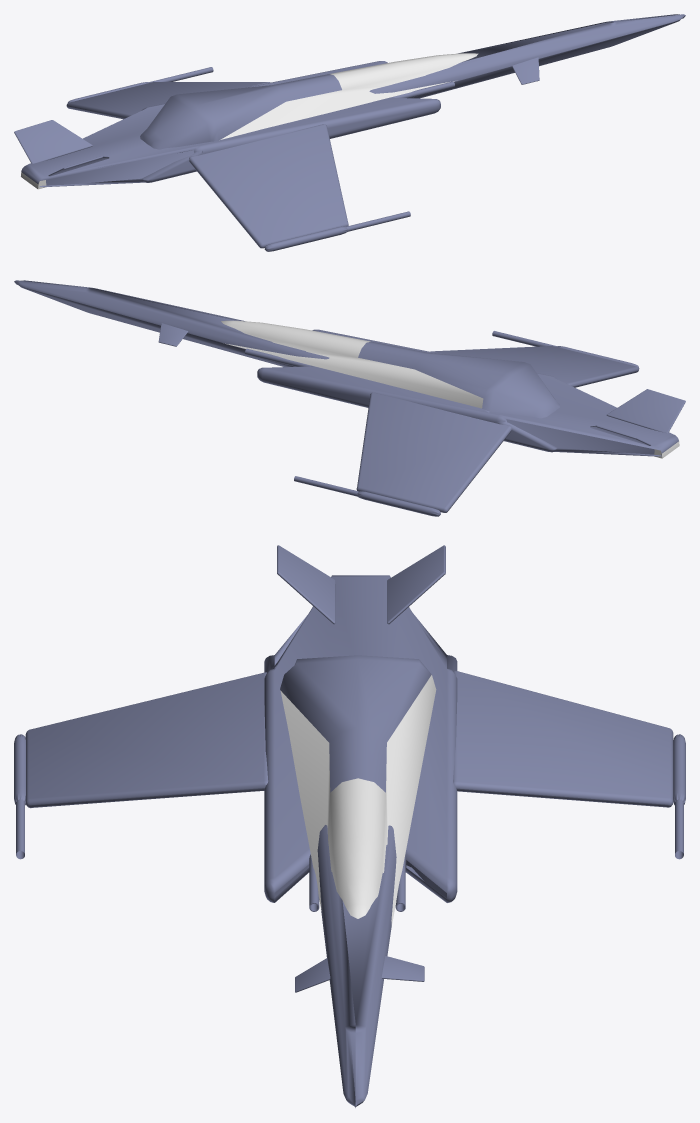
Rendered from Fleet_SF-1A.FBX.
3 views of the same model, one above another, from view 1: azimuth 30°, elevation 25°; view 2: azimuth 150°, elevation 25°; view 3: azimuth 270°, elevation 25° (orthographic). The views are drawn at different scales.
Visible parts, largest first — view 1: ChamferBox03, ChamferBox01, Capsule01, ChamferBox02, Cockpit cover, ChamferBox04, ChamferBox05, Box01, Cylinder01, ChamferBox08, Cylinder02; view 2: ChamferBox04, ChamferBox01, ChamferBox02, Capsule01, Cockpit cover, ChamferBox03, ChamferBox06, Box01, Cylinder04, ChamferBox09, Cylinder03, Tube01; view 3: ChamferBox01, ChamferBox03, ChamferBox04, Cockpit cover, Capsule01, ChamferBox02, ChamferBox06, ChamferBox05, Cylinder04, ChamferBox09.
Boxes of the visible parts, <box> form: ChamferBox03: <box>189,124,348,248</box>; ChamferBox01: <box>21,61,440,187</box>; Capsule01: <box>140,74,341,149</box>; ChamferBox02: <box>369,14,685,98</box>; Cockpit cover: <box>220,53,478,139</box>; ChamferBox04: <box>66,82,270,119</box>; ChamferBox05: <box>14,120,92,163</box>; Box01: <box>46,150,193,185</box>; Cylinder01: <box>264,226,347,251</box>; ChamferBox08: <box>512,57,539,84</box>; Cylinder02: <box>346,211,410,231</box>; ChamferBox04: <box>356,392,511,512</box>; ChamferBox01: <box>257,329,678,456</box>; ChamferBox02: <box>14,280,329,366</box>; Capsule01: <box>358,341,559,418</box>; Cockpit cover: <box>221,320,483,408</box>; ChamferBox03: <box>430,346,638,387</box>; ChamferBox06: <box>606,389,685,433</box>; Box01: <box>506,419,654,454</box>; Cylinder04: <box>357,491,440,516</box>; ChamferBox09: <box>158,323,188,346</box>; Cylinder03: <box>294,476,358,496</box>; Tube01: <box>245,348,311,366</box>; ChamferBox01: <box>264,575,457,902</box>; ChamferBox03: <box>25,672,268,808</box>; ChamferBox04: <box>453,670,673,807</box>; Cockpit cover: <box>280,675,436,925</box>; Capsule01: <box>280,655,431,792</box>; ChamferBox02: <box>317,825,396,1107</box>; ChamferBox06: <box>277,545,335,624</box>; ChamferBox05: <box>387,545,445,624</box>; Cylinder04: <box>673,734,685,805</box>; ChamferBox09: <box>381,956,424,981</box>.
Bounding box in the file's own units: 34.7 × 3.32 × 18.47.
